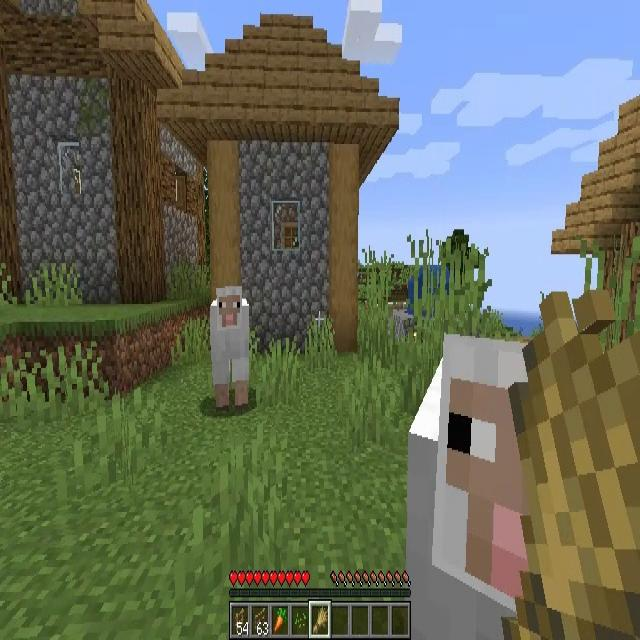sheep: (407, 331, 533, 640), (211, 286, 249, 407)
